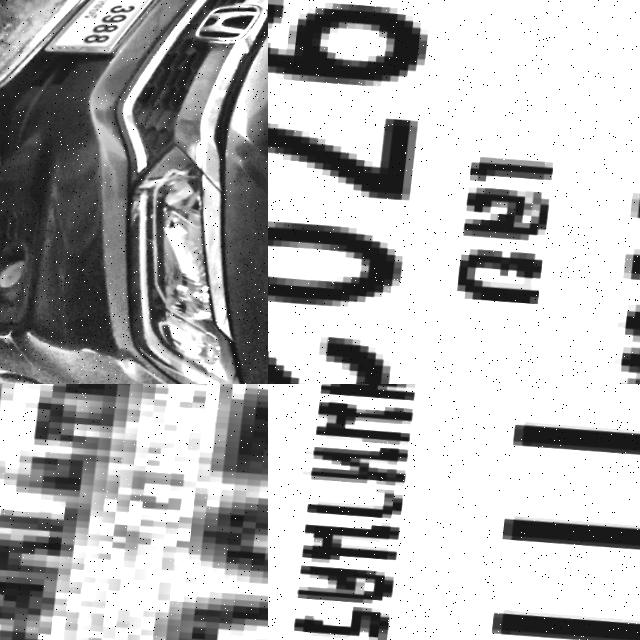license-plate: (268, 0, 640, 384), (268, 384, 640, 640), (0, 384, 268, 640), (41, 0, 182, 66)
